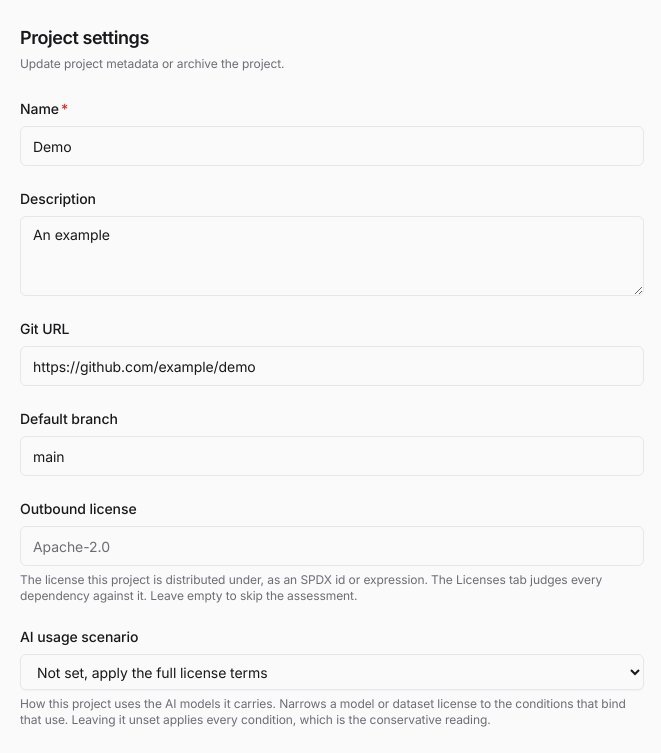
it: SettingsTab › submits the form and shows the saved toast on success
The width and height of the screenshot is (661, 753).
Replace the text in the field with test id "settings-name-input" with "Renamed" at (332, 146), box [20,126,644,166]
(page scrolled)
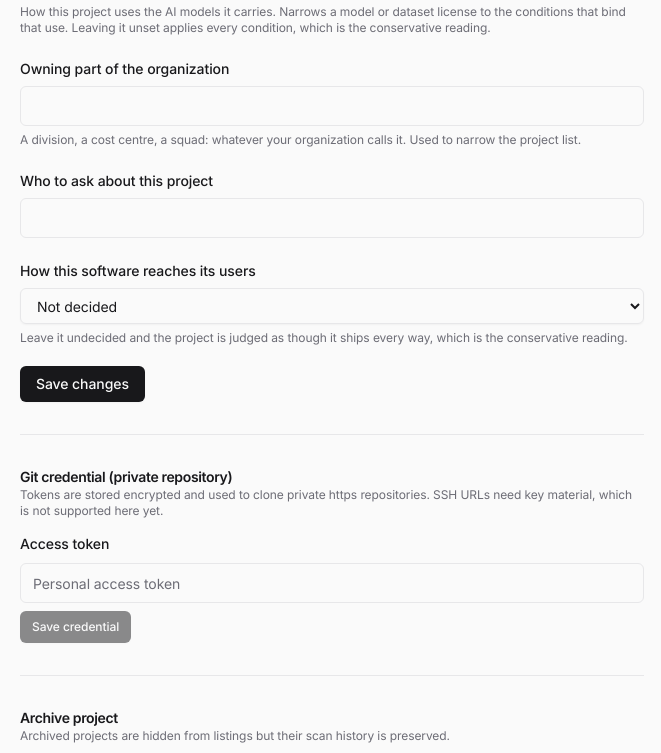
Click the button with test id "settings-save-button".
click(82, 384)  # box [20,366,145,402]
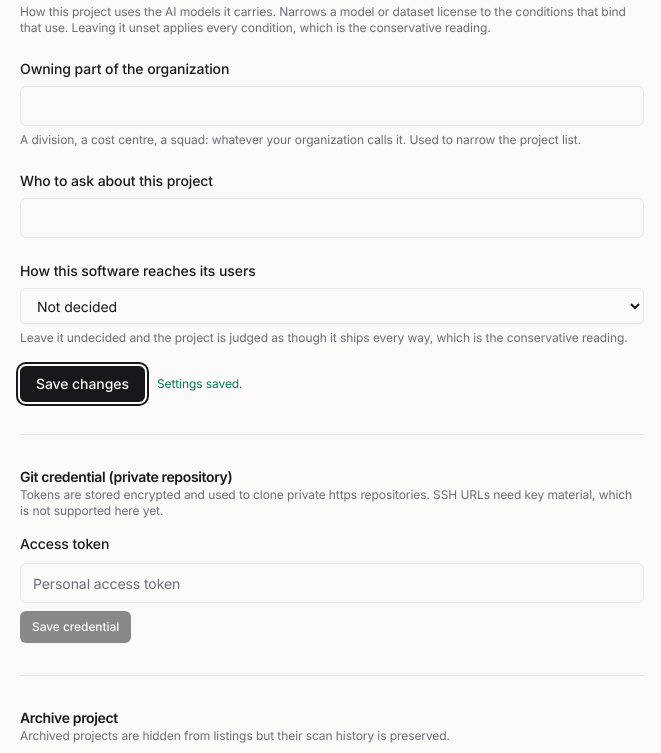
Expected: the text "Settings saved." is shown, [157,376,242,392]
